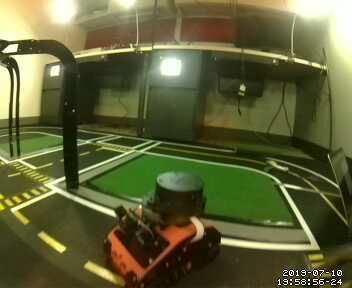pheeno: (102, 169, 225, 288)
